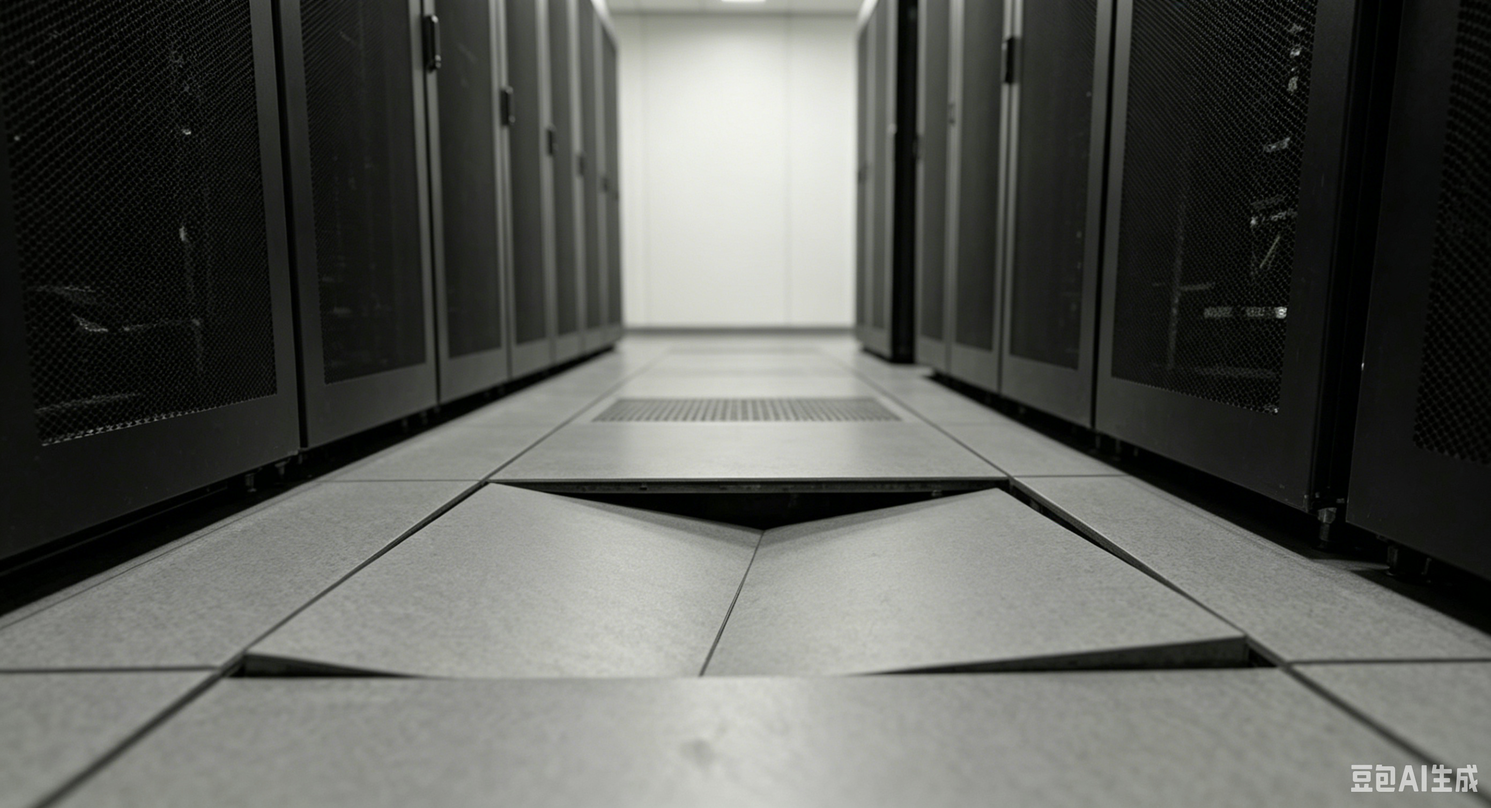floor_defect: (231, 465, 1288, 700)
